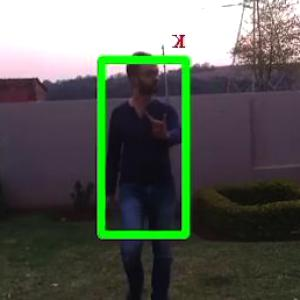takeoff-hand: (142, 101, 173, 143)
